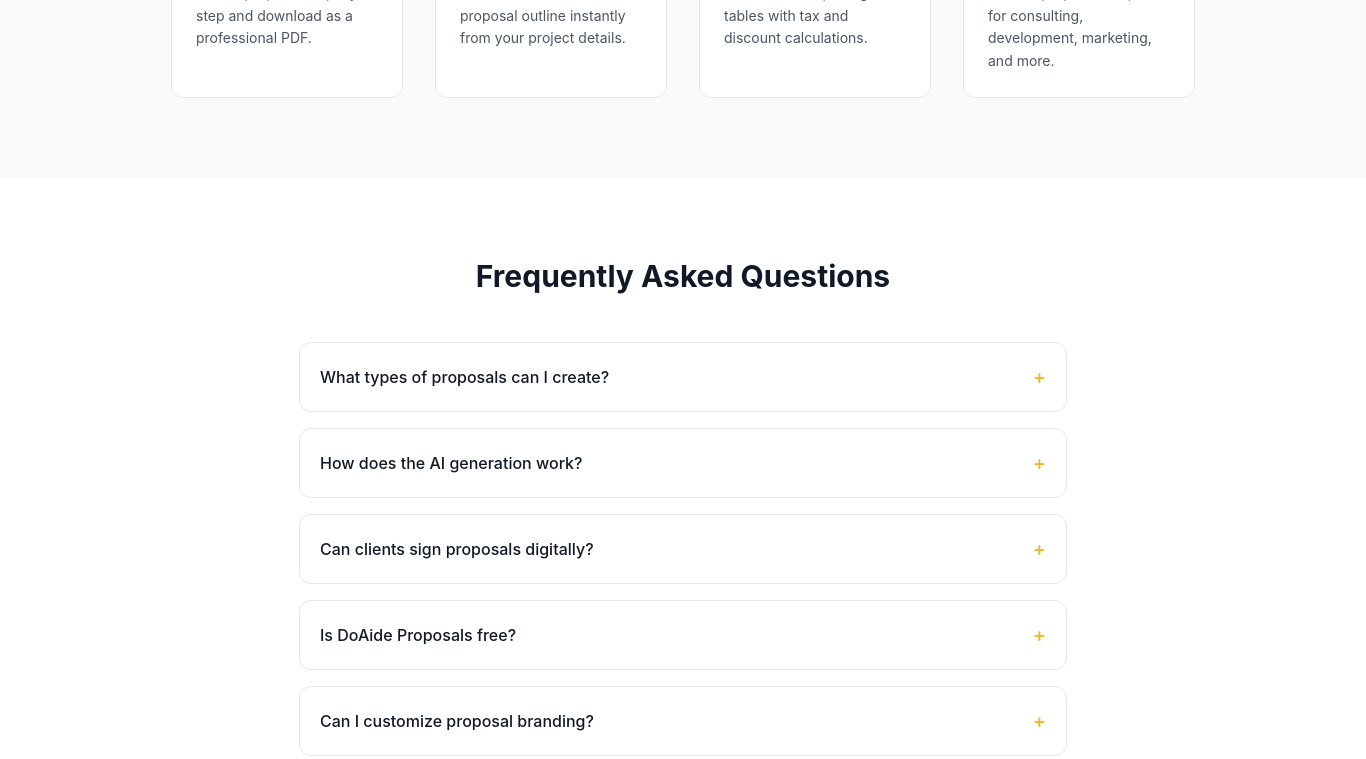
Test: Landing › renders FAQ section with accordion
(page scrolled)
Expected: the heading "Frequently Asked Questions" is shown, [476,258,890,294]
Click the button "What types of proposals can I create? +" at (465, 377), box [300,343,1066,411]
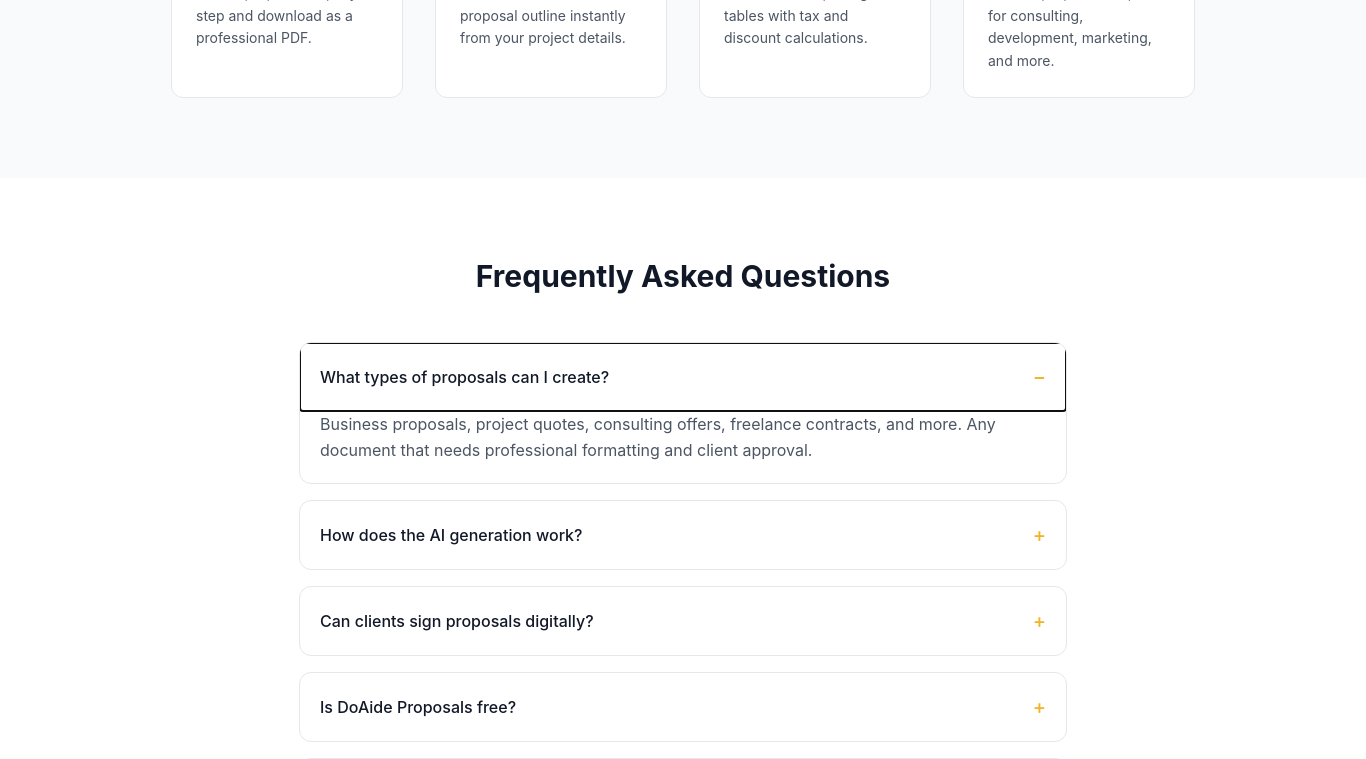
Result: the text "Business proposals, project quotes" is shown at [320,414,996,460]
